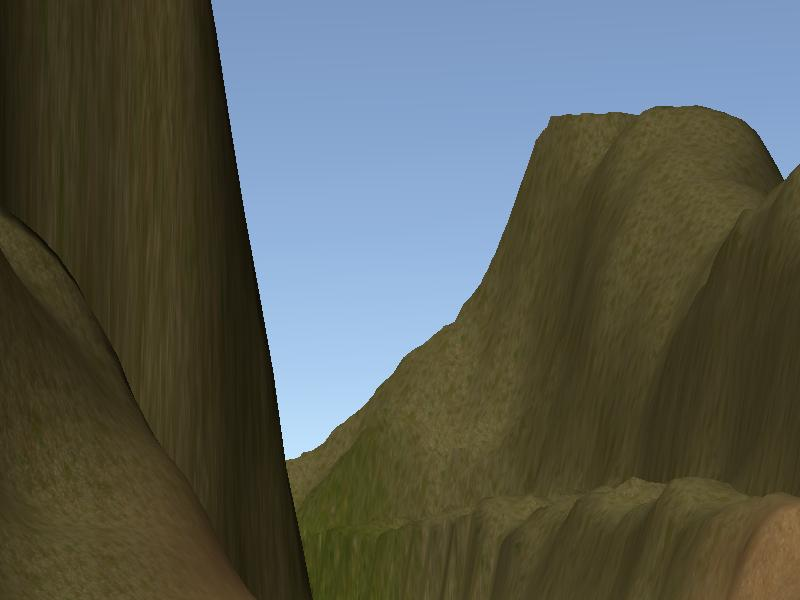background: (2, 2, 798, 600)
